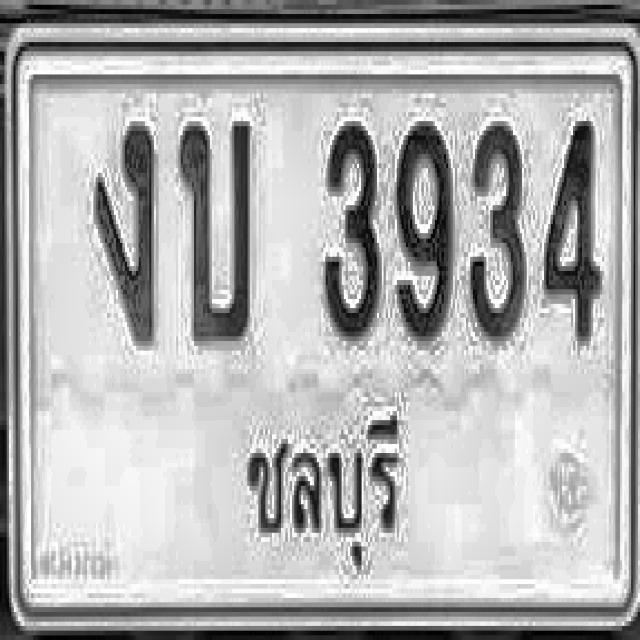license-plate: (6, 21, 640, 629)
